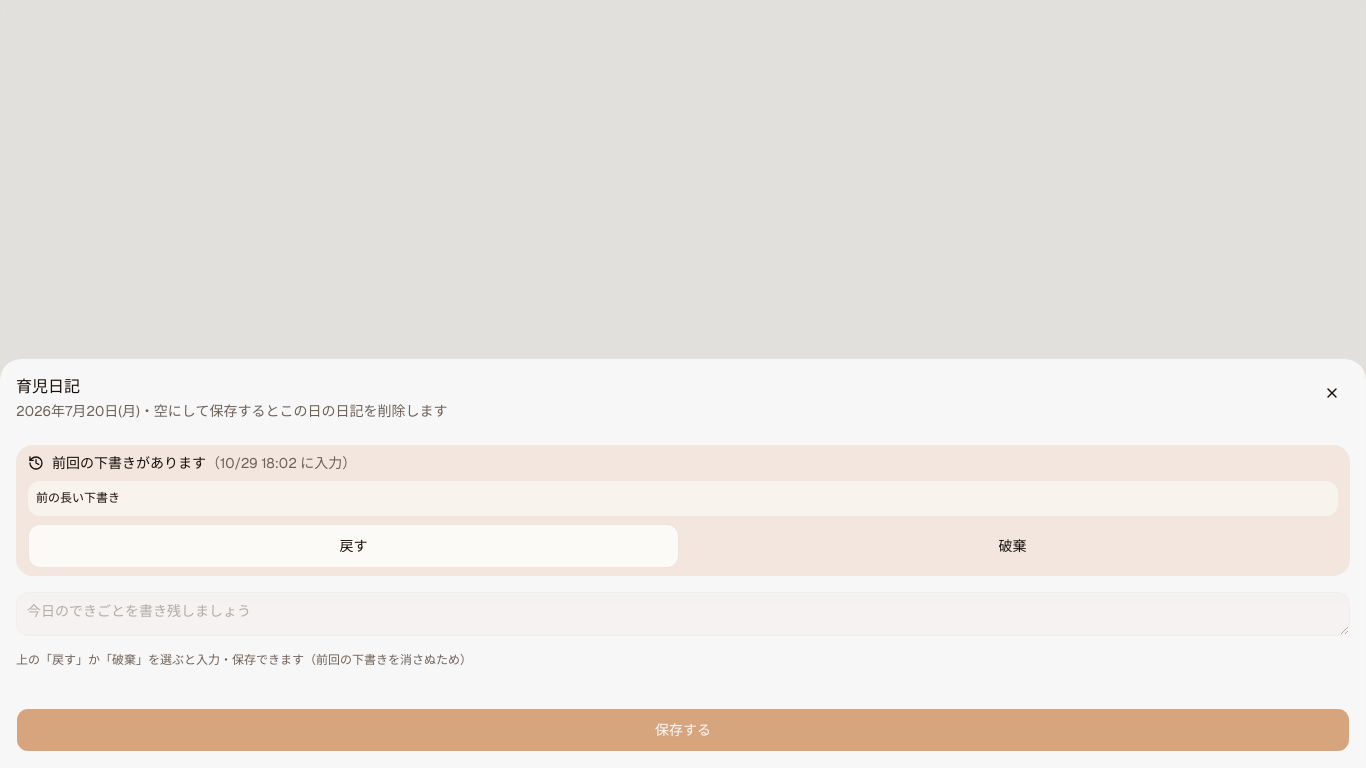
Scenario: 日記の下書き: 閉じる・再読込で戻せる（AC07） › 戻す/破棄を選ぶまで入力を止め、前の下書きを上書きも取りこぼしもせぬ（独立レビュー 2 周の指摘）
Check: the text "前回の下書きがあります" is shown, box [52,454,206,472]
Check: the text box named "日記本文" is disabled, box [16,592,1350,636]
Click the button "戻す".
click(354, 546)  # box [28,524,679,568]
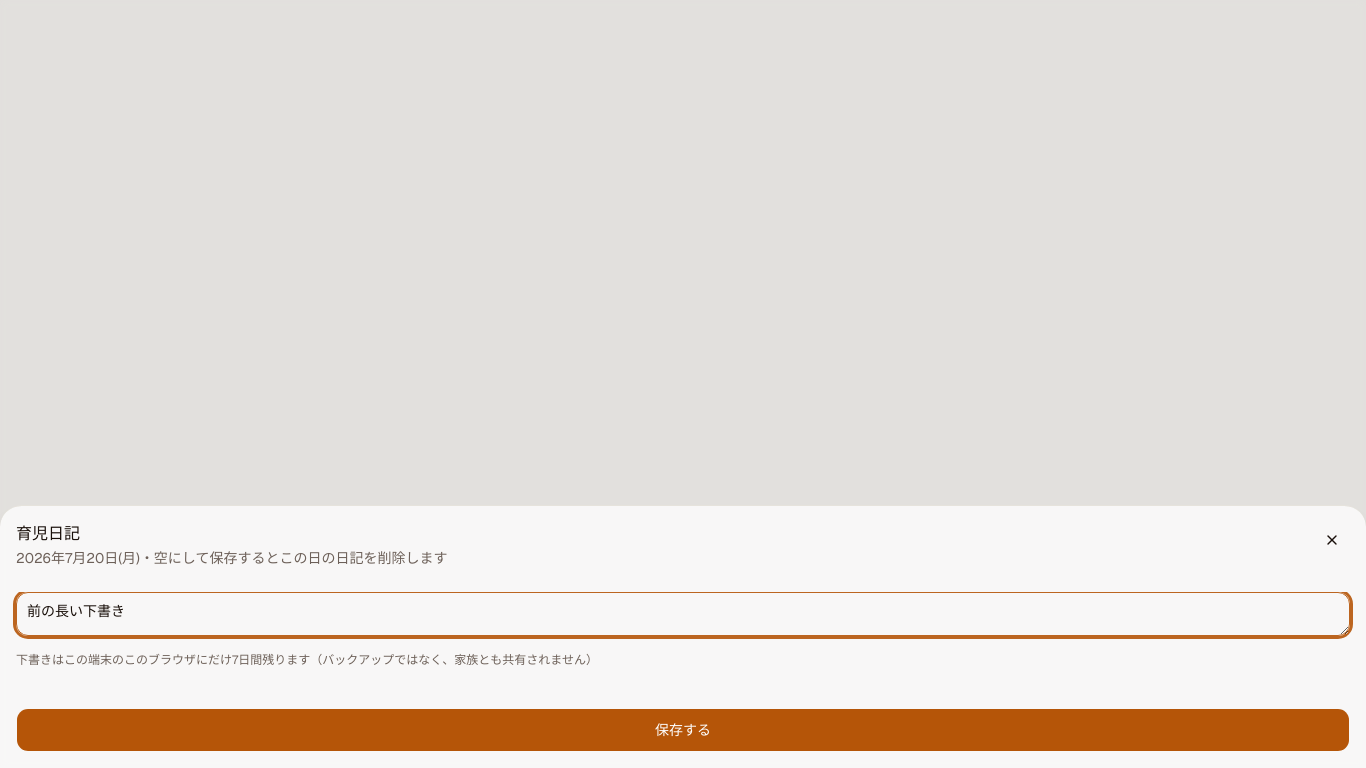
Check: the text box named "日記本文" is enabled, box [16,592,1350,636]
Check: the text box named "日記本文" holds "前の長い下書き", box [16,592,1350,636]
